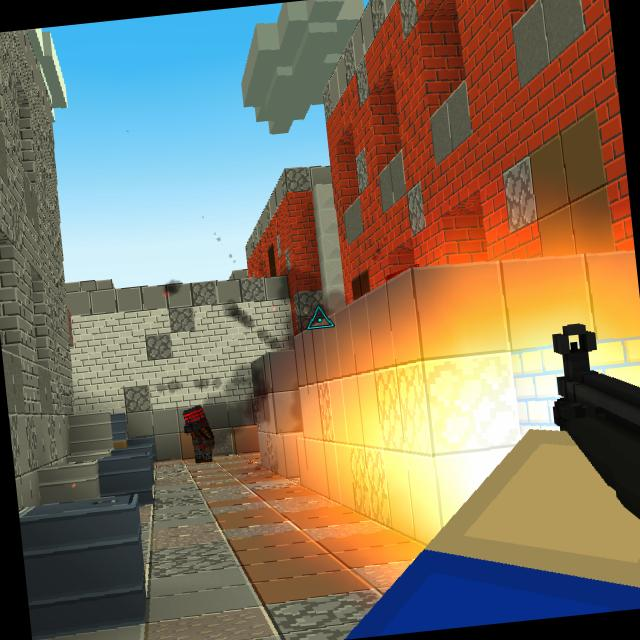enemy: (181, 402, 216, 465)
